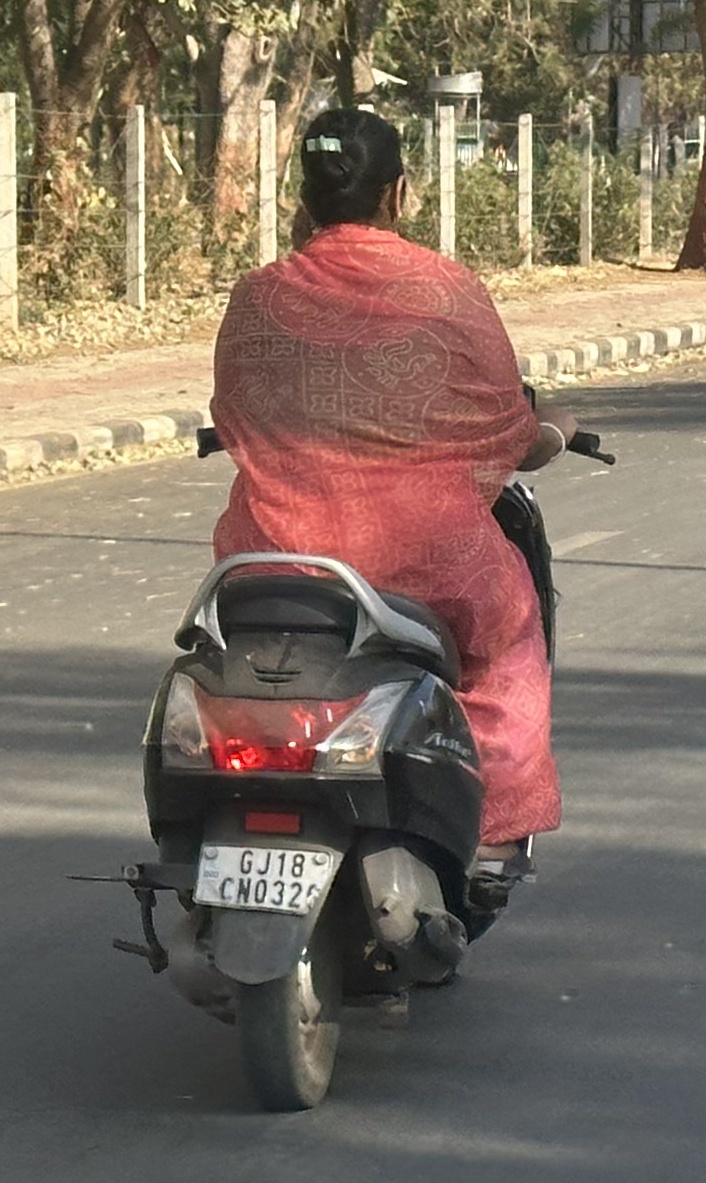BikeWithRider: (60, 93, 626, 1124)
NoHelmet: (278, 96, 423, 255)
